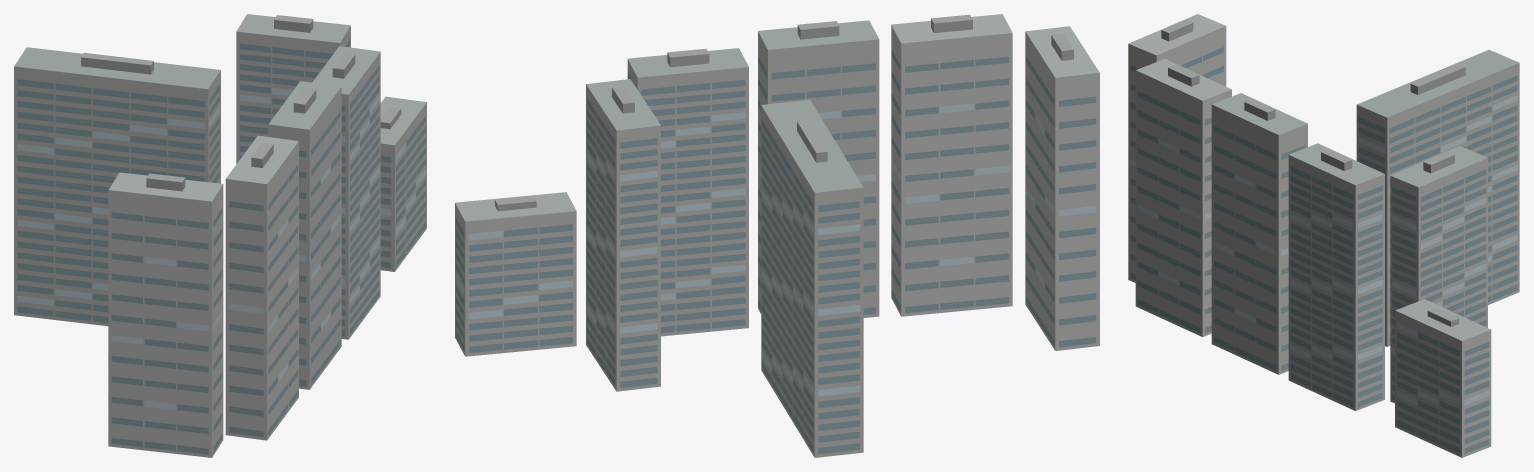
Rendered from apt-a13385301.glb.
3 renders of one model, left to right at view 1: azimuth 30°, elevation 25°; view 2: azimuth 150°, elevation 25°; view 3: azimuth 270°, elevation 25°, orthographic. The views are drawn at different scales.
Visible parts, largest first — view 1: apt-a13385301; view 2: apt-a13385301; view 3: apt-a13385301.
Part boxes in pixels (x1,y1,x2,y2): apt-a13385301: (14,14,426,457); apt-a13385301: (455,14,1099,457); apt-a13385301: (1128,14,1519,457).
Bounding box in the file's own units: 127 × 71 × 101.
